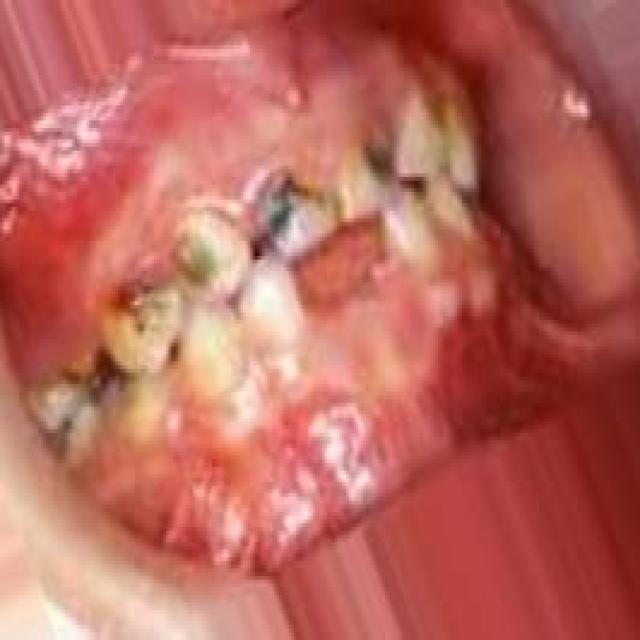caries: (94, 259, 184, 377), (168, 195, 248, 306), (252, 159, 332, 258), (348, 100, 412, 202)
